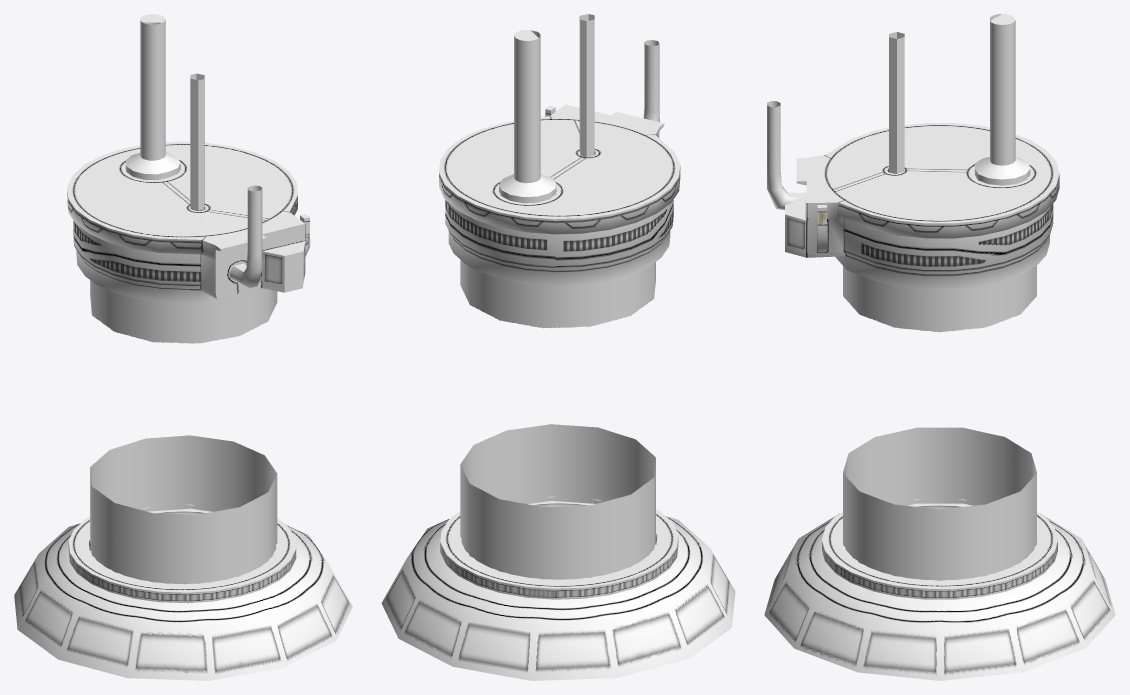
Rendered from Obj_BioTube.FBX.
3 renders of one model, left to right at view 1: azimuth 30°, elevation 25°; view 2: azimuth 150°, elevation 25°; view 3: azimuth 270°, elevation 25°, orthographic. The views are drawn at different scales.
Parts seen in each view (by area): view 1: BioTube_Top, BioTube_Base, BioTube_Tube; view 2: BioTube_Top, BioTube_Base, BioTube_Tube; view 3: BioTube_Top, BioTube_Base, BioTube_Tube.
Boxes of the visible parts, left/top/right/bottom form: BioTube_Top: left=67, top=14, right=310, bottom=303; BioTube_Base: left=14, top=504, right=352, bottom=680; BioTube_Tube: left=90, top=280, right=277, bottom=584; BioTube_Top: left=439, top=14, right=680, bottom=285; BioTube_Base: left=381, top=496, right=735, bottom=680; BioTube_Tube: left=460, top=260, right=655, bottom=579; BioTube_Top: left=767, top=14, right=1059, bottom=289; BioTube_Base: left=764, top=499, right=1115, bottom=680; BioTube_Tube: left=843, top=265, right=1036, bottom=580.
Bounding box in the file's own units: 1.4 × 2.61 × 1.41.
